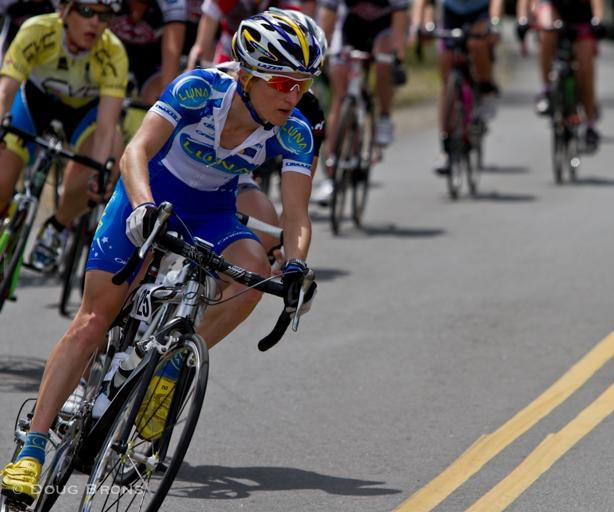non-vehicle: (0, 200, 317, 510), (412, 20, 503, 199), (517, 17, 611, 182), (324, 43, 405, 230)
